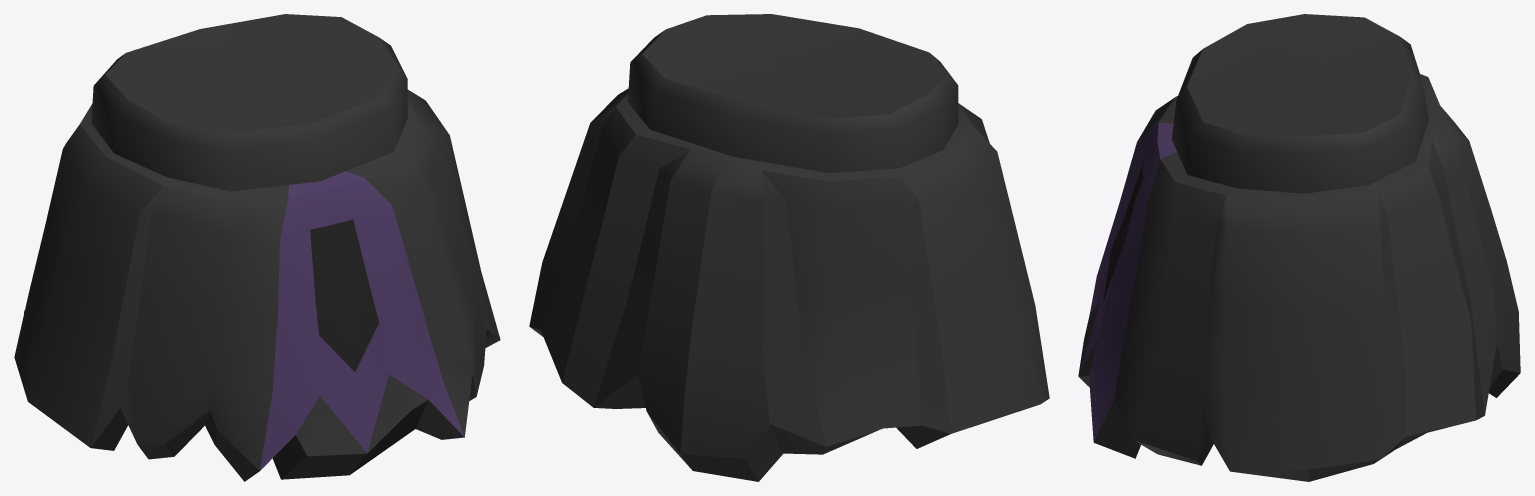
The model's file is Bottom_49.fbx.
The picture shows the model from 3 angles, left to right: view 1: azimuth 30°, elevation 25°; view 2: azimuth 150°, elevation 25°; view 3: azimuth 270°, elevation 25°; orthographic projection. The views are drawn at different scales.
Visible parts, largest first — view 1: Bottom_49; view 2: Bottom_49; view 3: Bottom_49.
Part boxes in pixels (x1=…): Bottom_49: x1=14, y1=14, x2=500, y2=481; Bottom_49: x1=529, y1=14, x2=1049, y2=481; Bottom_49: x1=1078, y1=14, x2=1520, y2=481.
Size of the model in its own units: 62.05 by 43.94 by 52.45.
